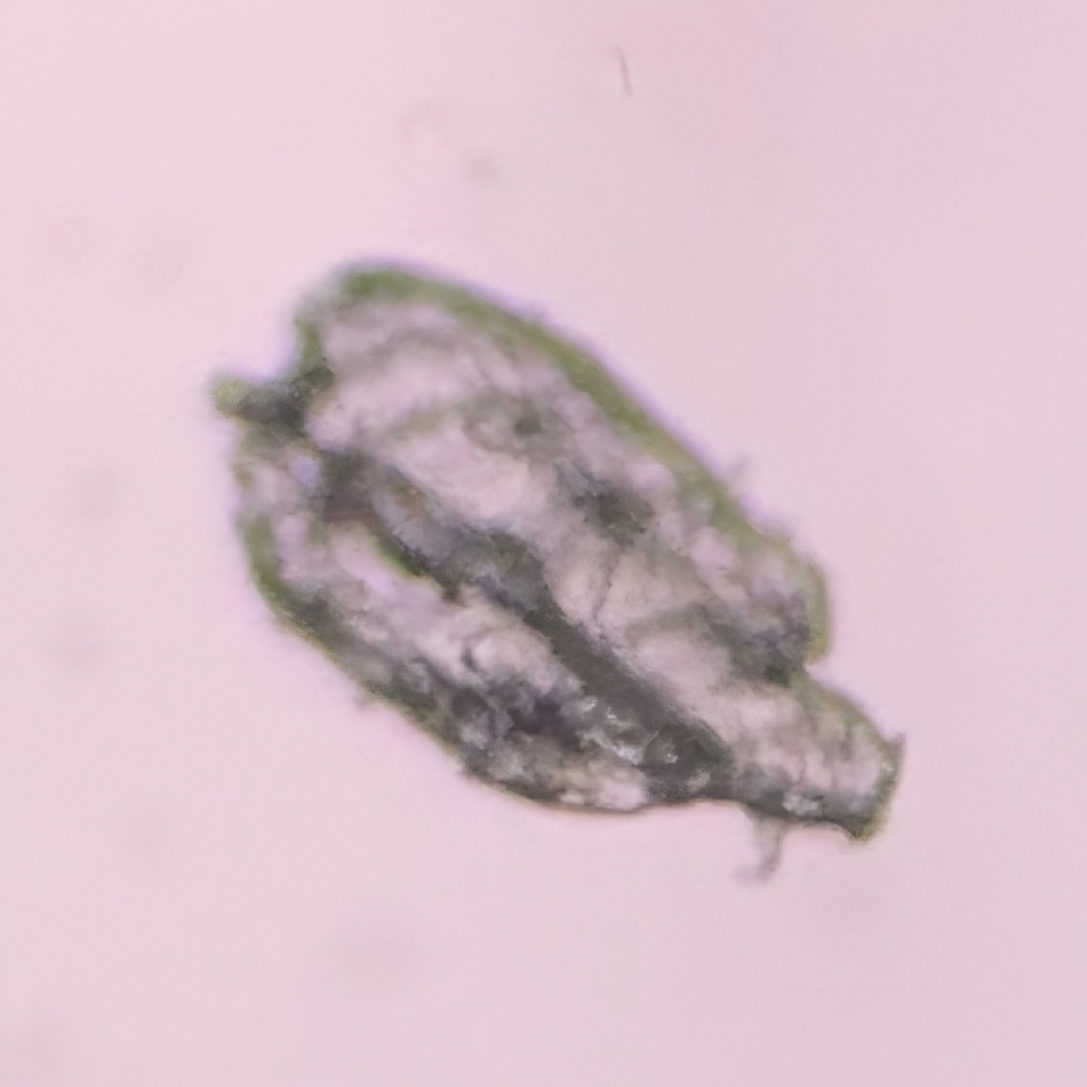microplastic: (202, 245, 918, 900)
